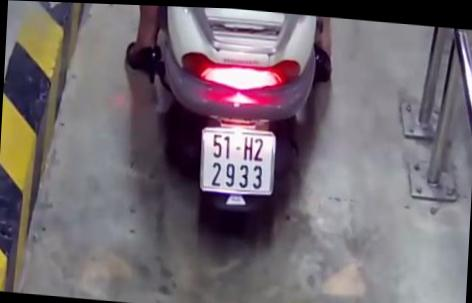LP: (196, 123, 277, 198)
